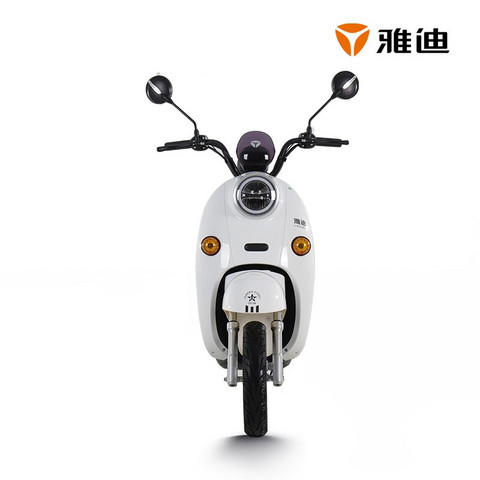MNV: (146, 74, 359, 435)
